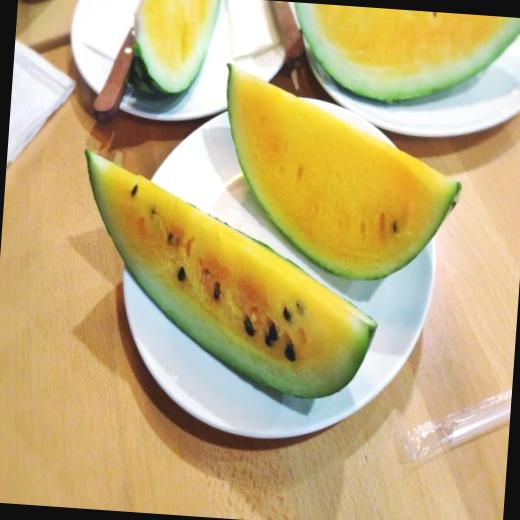Cherry: (66, 146, 386, 402), (210, 63, 468, 288), (287, 2, 520, 111), (125, 0, 220, 99)
